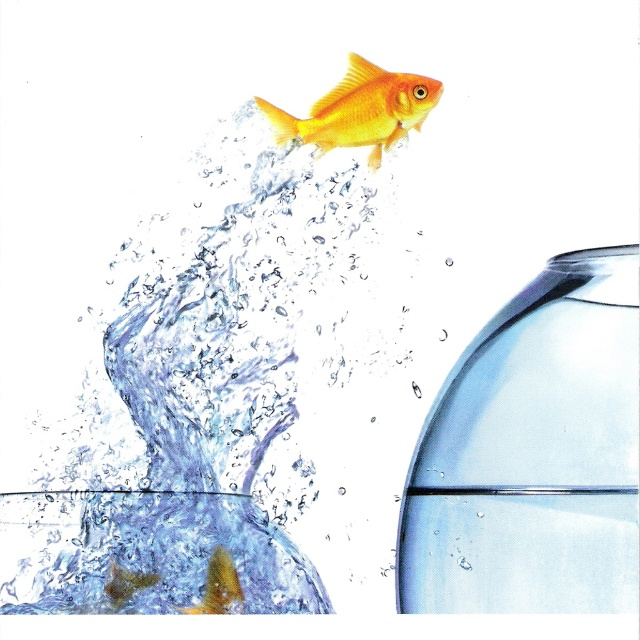Goldfish: (253, 51, 444, 175)
